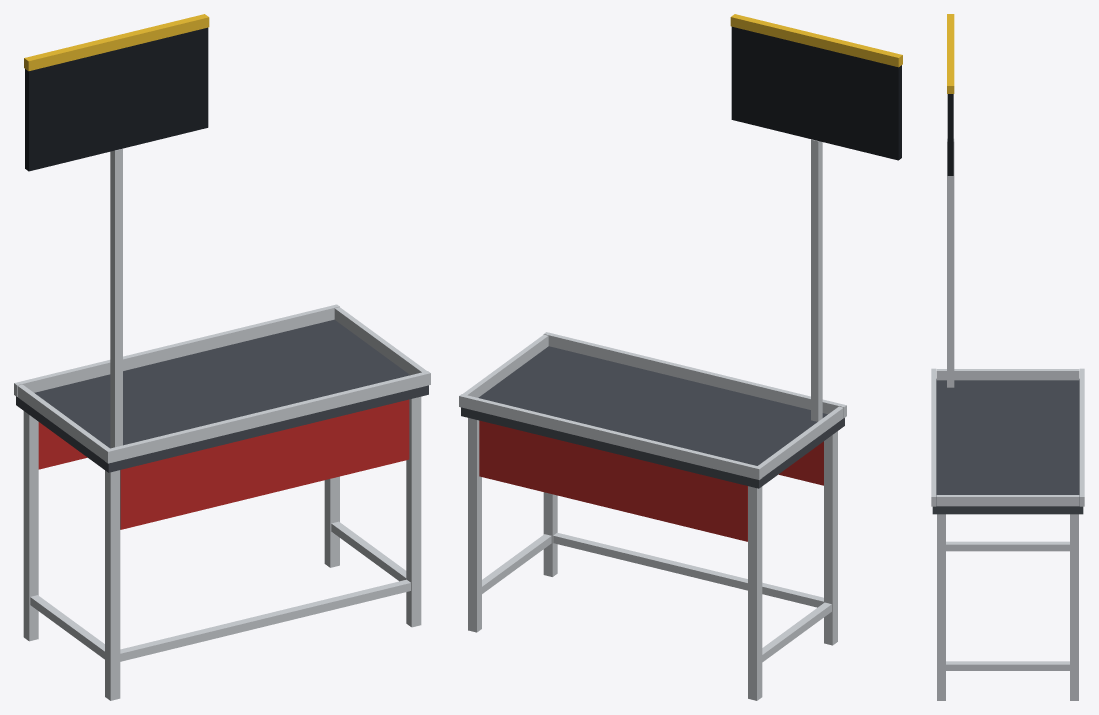
Rendered from sweep_table.glb.
3 views of the same model, side by side, from view 1: azimuth 30°, elevation 25°; view 2: azimuth 150°, elevation 25°; view 3: azimuth 270°, elevation 25° (orthographic). The views are drawn at different scales.
Visible parts, largest first — view 1: chrome, shelf_dark, sale_red, sign_dark, sign_yellow; view 2: chrome, shelf_dark, sale_red, sign_dark, sign_yellow; view 3: shelf_dark, chrome, sign_yellow, sign_dark.
Boxes of the visible parts, x1,y1,x2,y2 form: chrome: [14, 148, 430, 700]; shelf_dark: [16, 319, 428, 472]; sale_red: [38, 399, 409, 529]; sign_dark: [25, 27, 208, 171]; sign_yellow: [24, 14, 209, 71]; chrome: [459, 139, 846, 700]; shelf_dark: [461, 346, 844, 488]; sale_red: [479, 420, 823, 541]; sign_dark: [731, 26, 901, 160]; sign_yellow: [730, 14, 902, 67]; shelf_dark: [932, 379, 1083, 514]; chrome: [931, 138, 1084, 700]; sign_yellow: [947, 14, 954, 93]; sign_dark: [947, 94, 953, 175].
Size of the model in its own units: 1.23 by 1.95 by 0.508.
